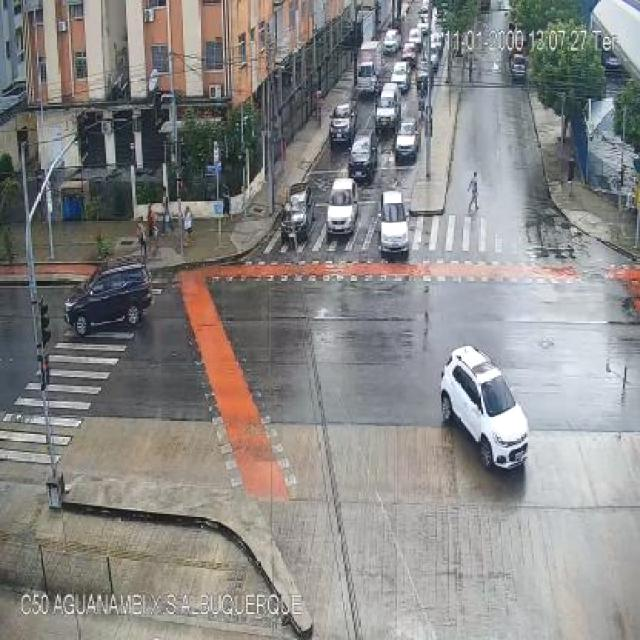Car: (439, 340, 530, 472), (64, 261, 153, 337), (378, 190, 410, 258), (283, 182, 316, 242), (328, 179, 360, 232), (348, 132, 378, 180), (356, 42, 382, 95), (329, 102, 356, 146), (394, 118, 420, 162), (376, 83, 402, 125), (389, 64, 411, 94), (437, 3, 455, 32), (382, 28, 401, 54), (510, 54, 528, 81), (429, 32, 443, 63), (401, 41, 418, 64), (416, 69, 430, 95), (407, 28, 422, 52), (418, 17, 431, 35)
